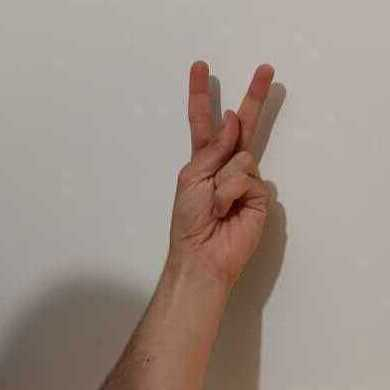K: (171, 59, 275, 283)
